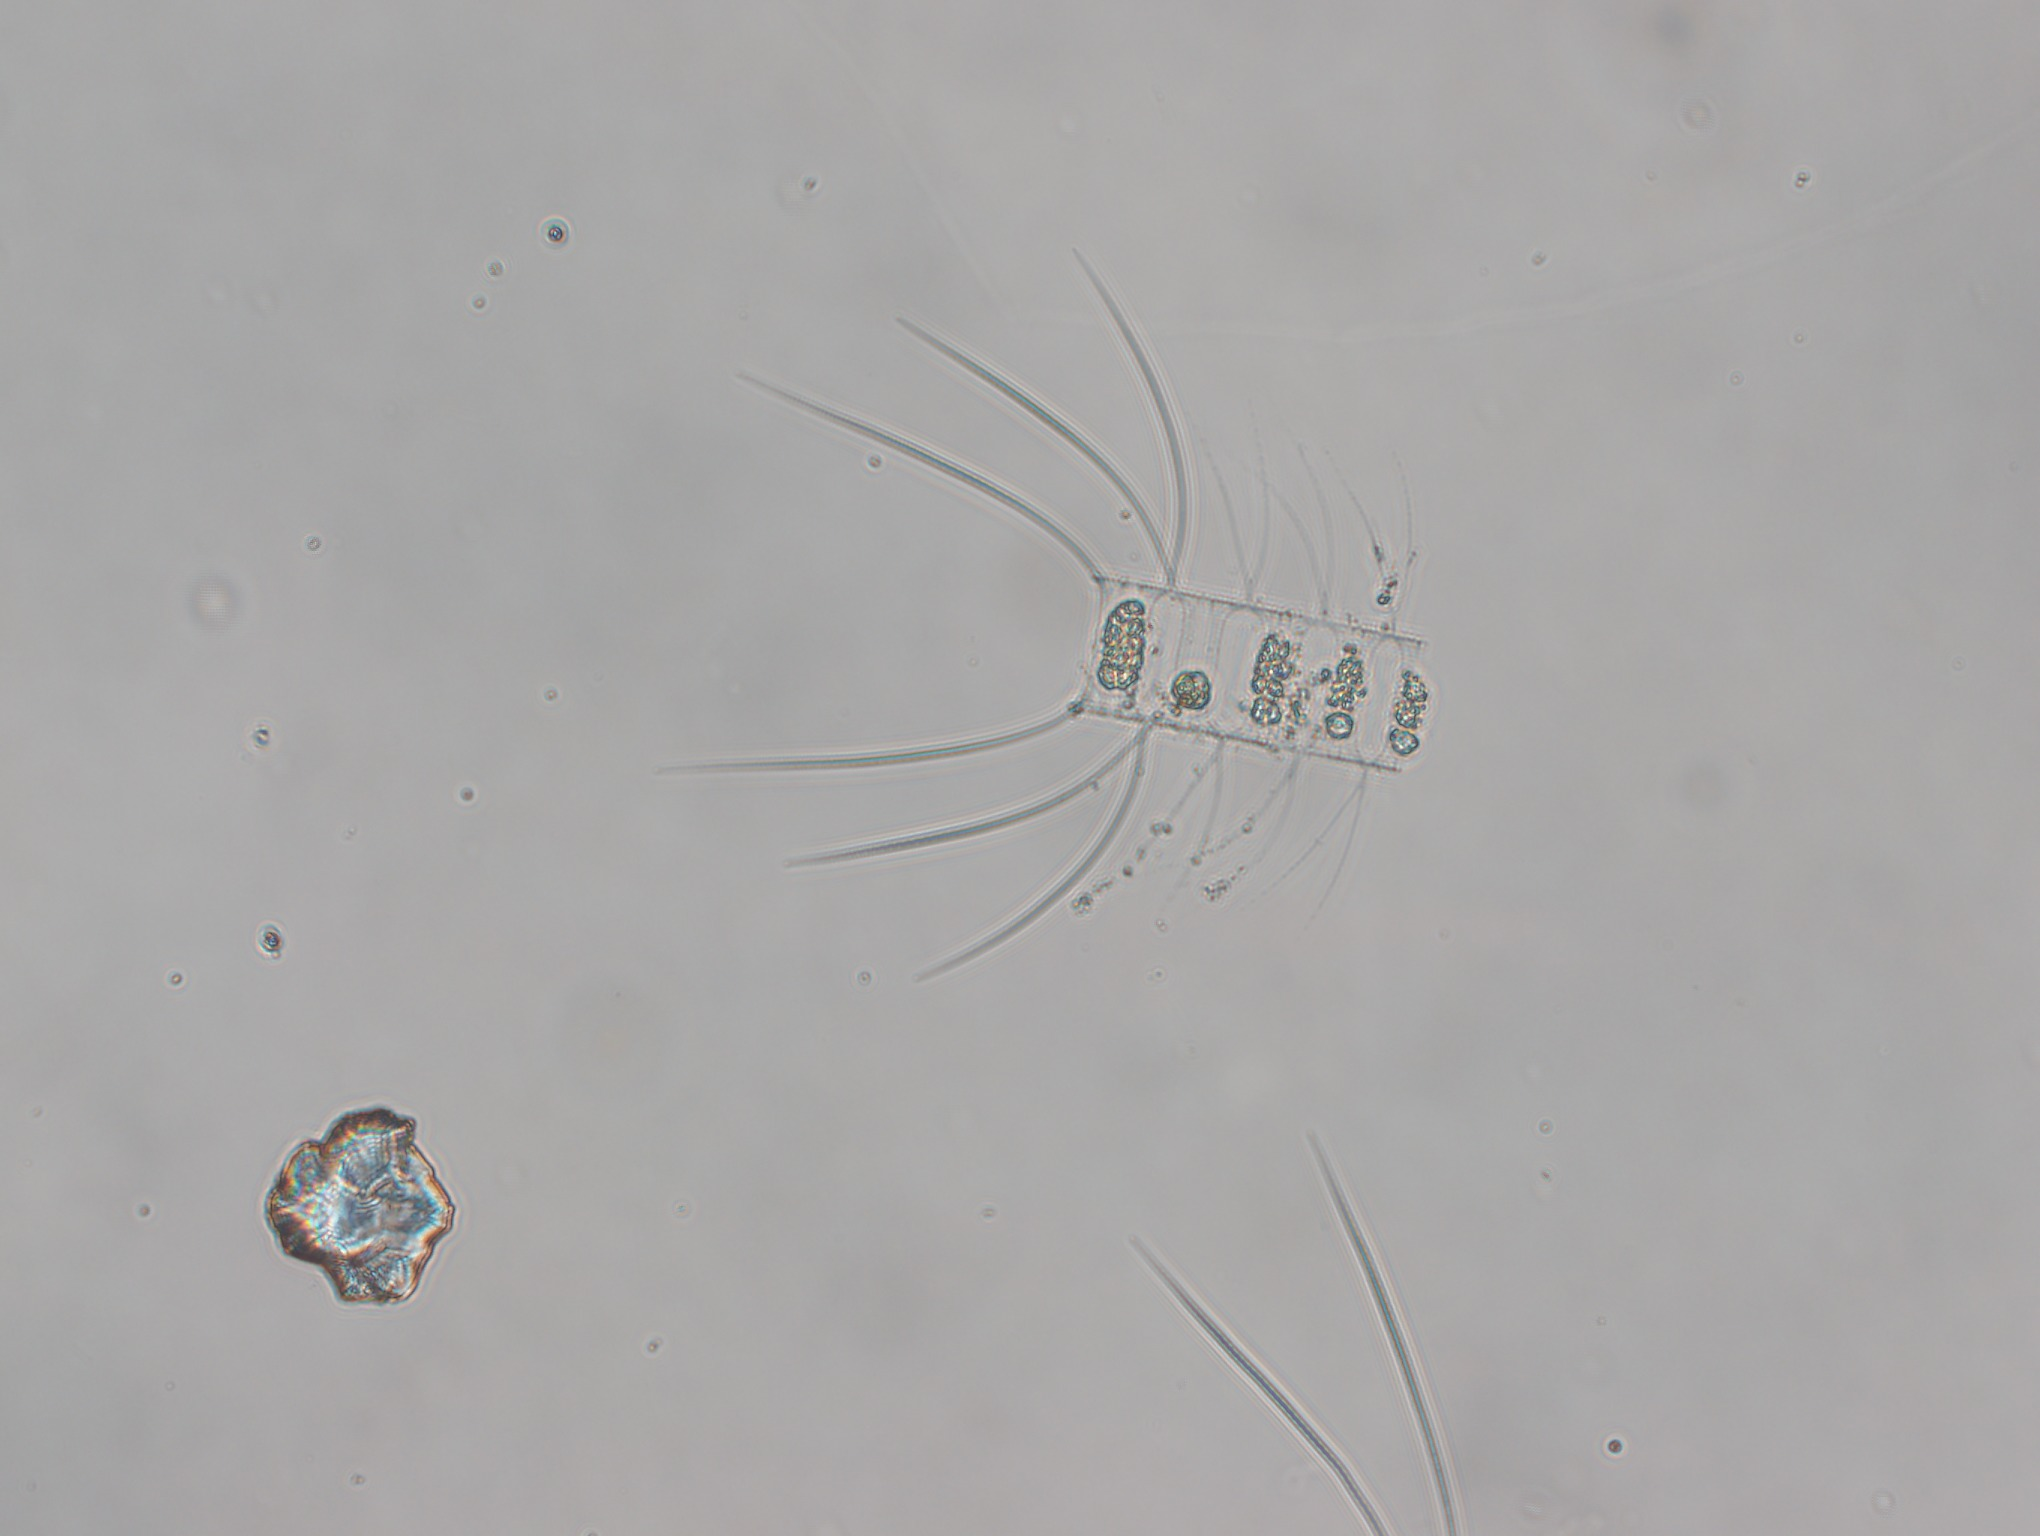chaetoceros: (677, 244, 1497, 1004)
